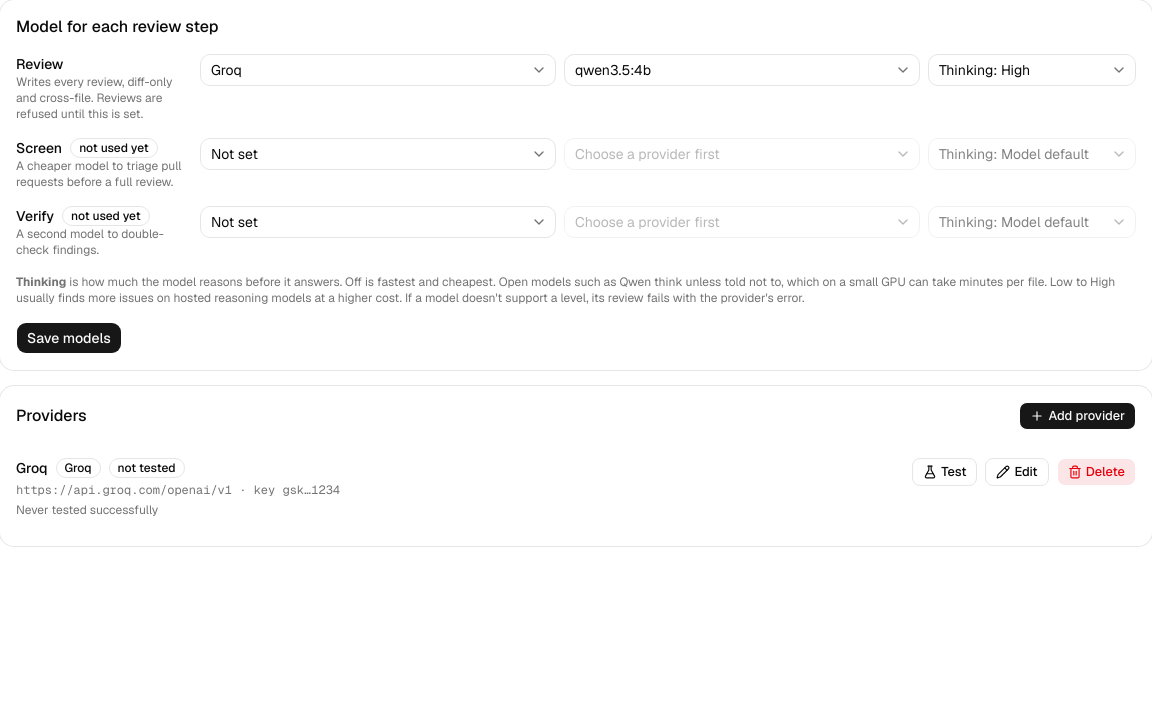
Test: AiProviders › saves a thinking level per step and shows the saved one
Check: the dropdown named "screen thinking" is disabled, box [928, 138, 1136, 170]
What coordinates should you click on to do the following:
click the dropdown named "review thinking"
I would click on:
 (1032, 70)
Its box is [928, 54, 1136, 86].
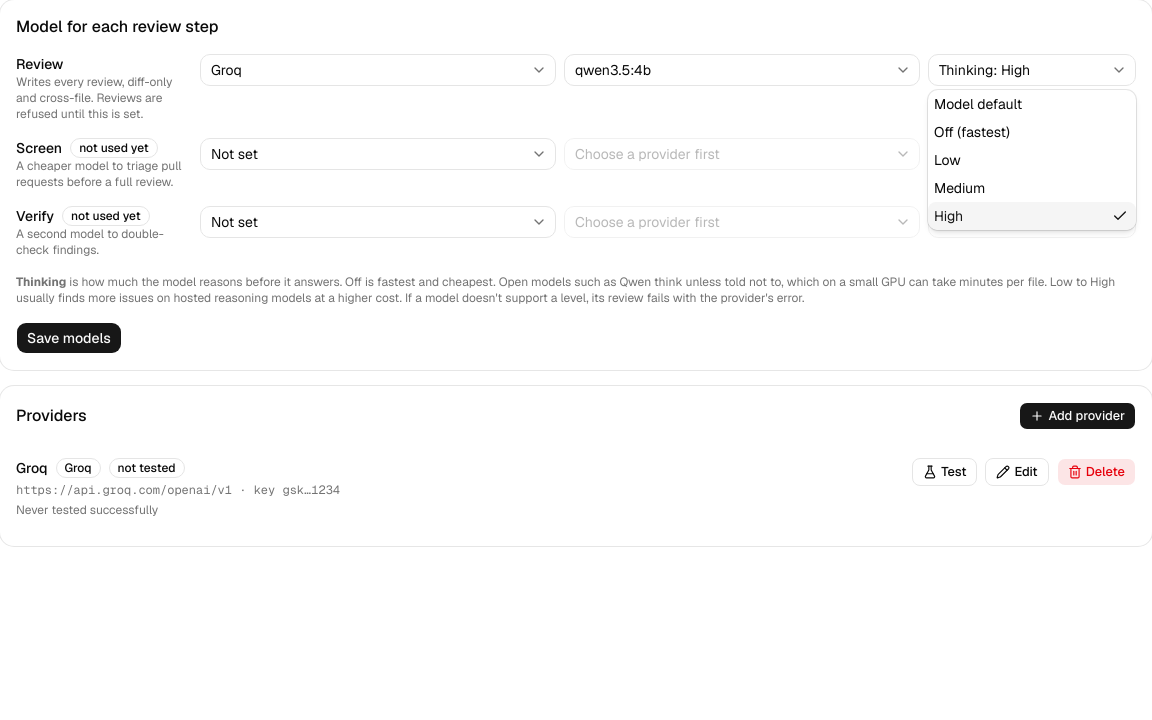
What coordinates should you click on to do the following:
click the option "Off (fastest)"
I would click on:
 (972, 132)
Its box is [934, 123, 1010, 141].
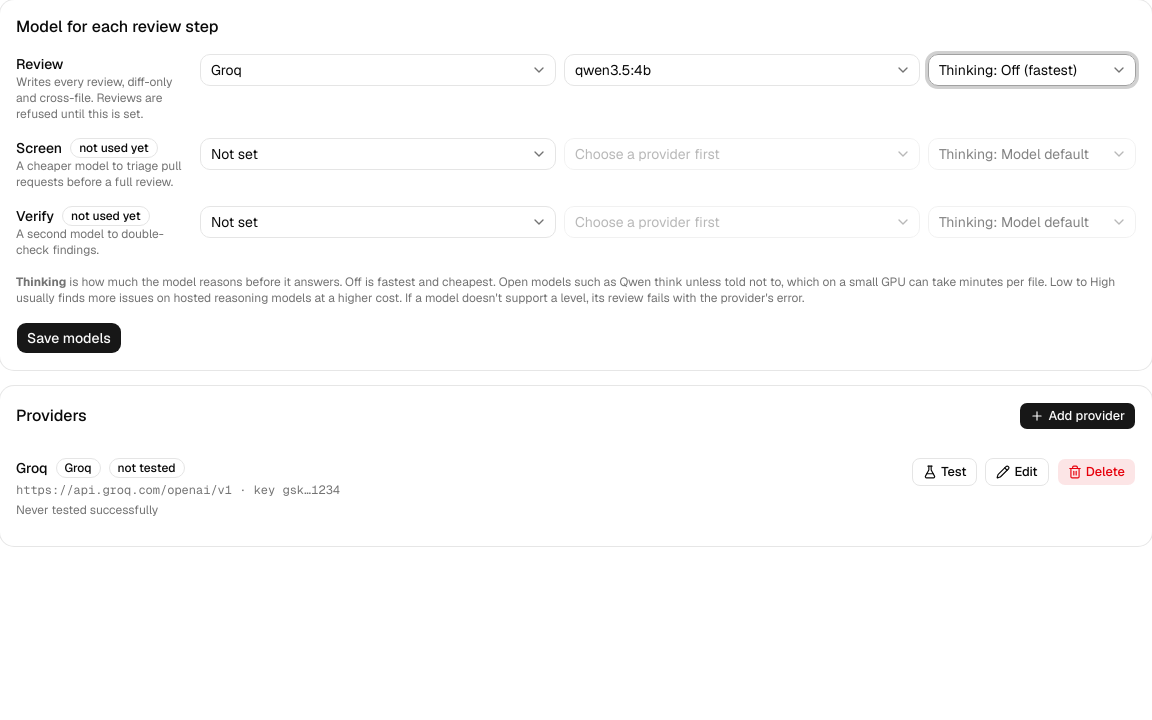
What coordinates should you click on to do the following:
click the button "Save models"
I would click on:
 (69, 338)
Its box is [16, 322, 122, 354].
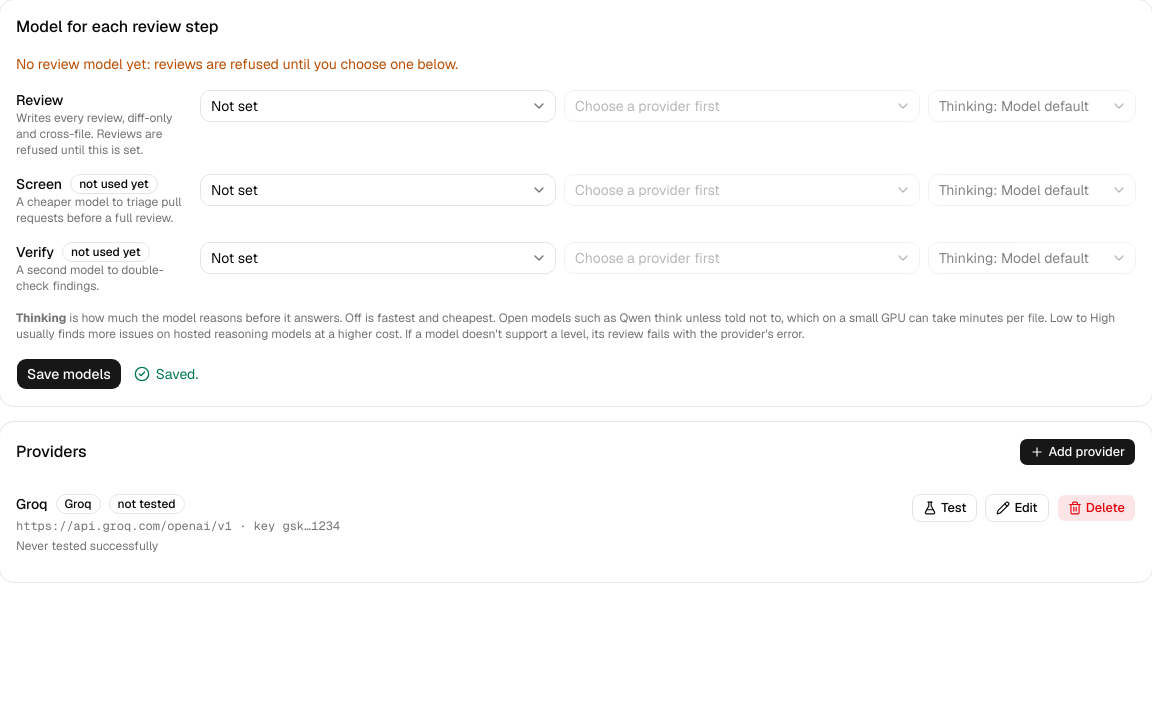
Check: the text "Saved." is shown, box [134, 364, 198, 384]
